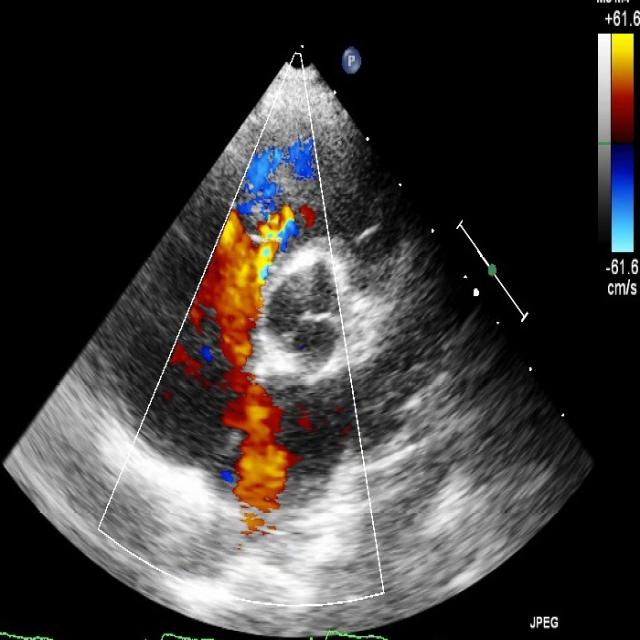ASDType2: (222, 372, 306, 511)
